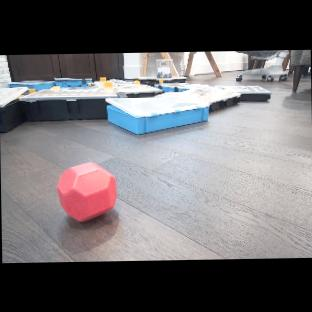V5_RED: (54, 158, 119, 225)
